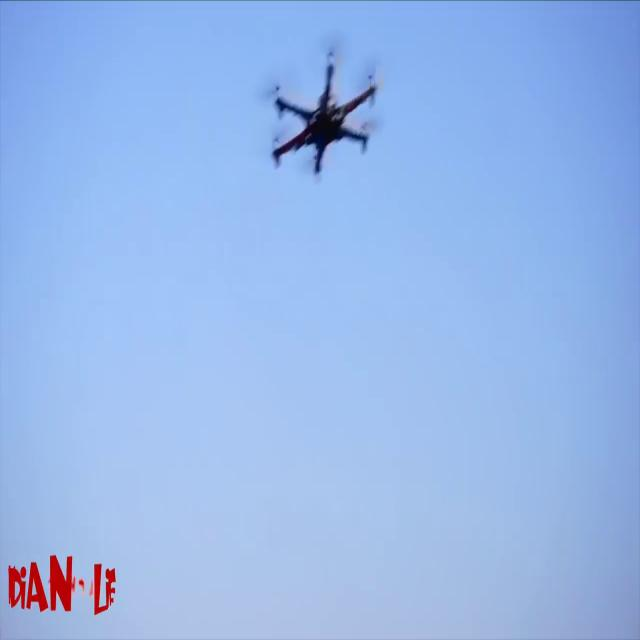drone: (247, 27, 392, 209)
